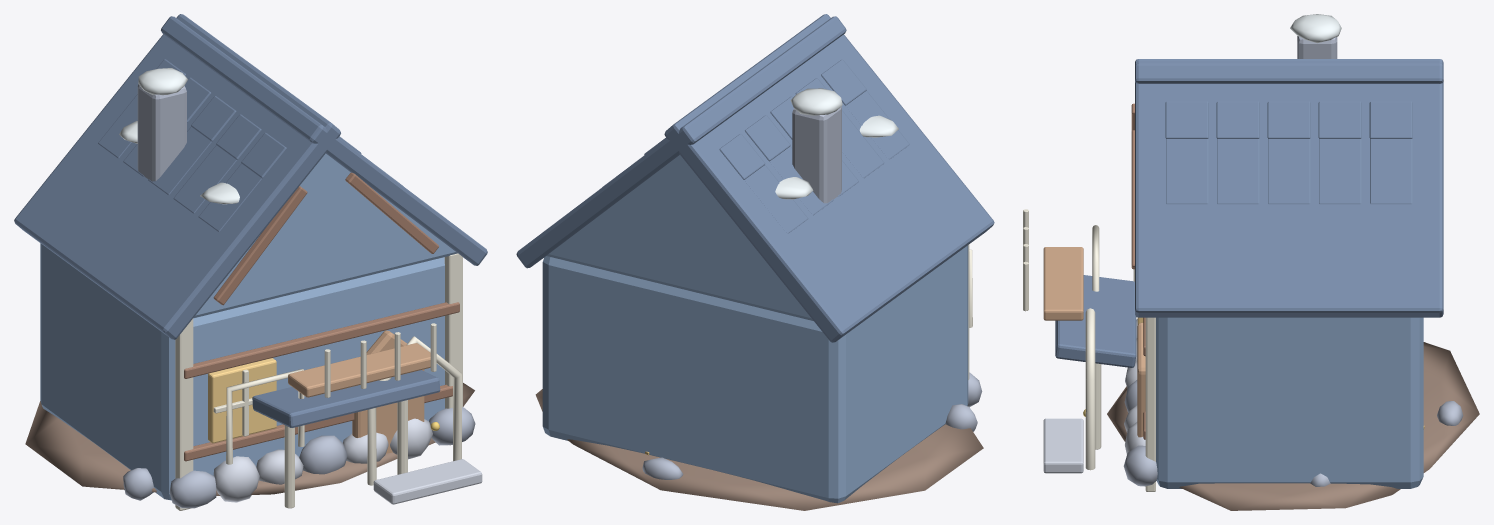
The model's file is northern_house_blue.glb.
The picture shows the model from 3 angles, left to right: view 1: azimuth 30°, elevation 25°; view 2: azimuth 150°, elevation 25°; view 3: azimuth 270°, elevation 25°; orthographic projection.
Parts seen in each view (by area): view 1: northern_house_blue.001; view 2: northern_house_blue.001; view 3: northern_house_blue.001.
Part boxes in pixels (box(x1,y1,x2,y2)): northern_house_blue.001: box(14, 14, 487, 510); northern_house_blue.001: box(516, 14, 994, 510); northern_house_blue.001: box(1023, 14, 1479, 510).
Size of the model in its own units: 11.49 by 10.18 by 11.39.
